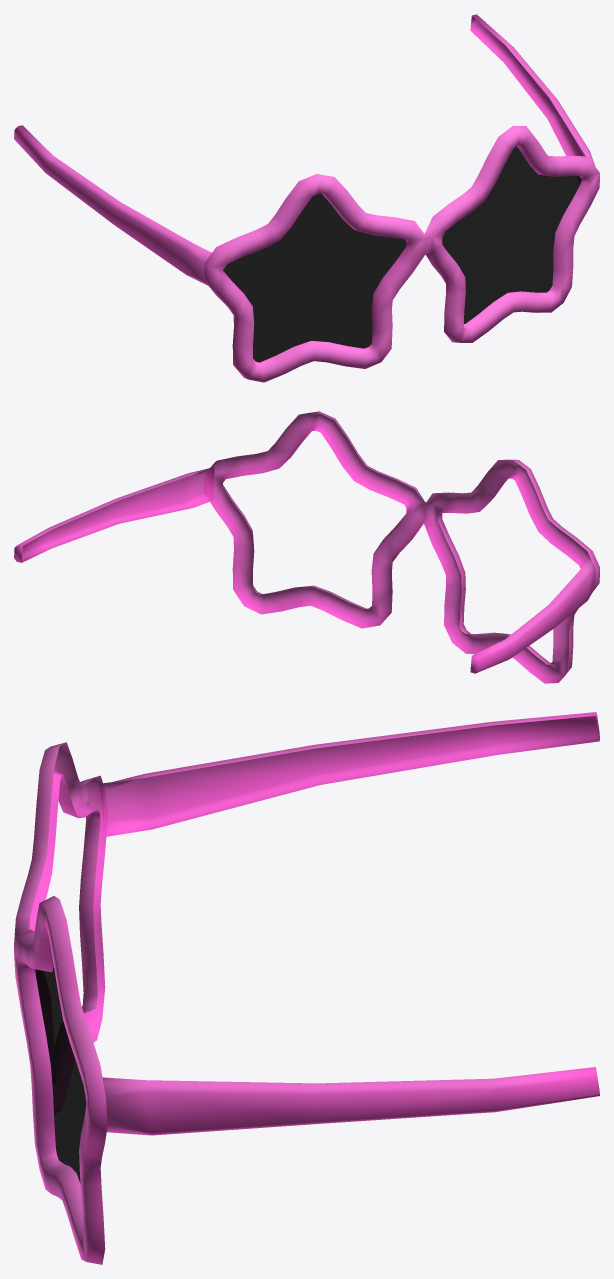
The picture shows the model from 3 angles, top to bottom: view 1: azimuth 30°, elevation 25°; view 2: azimuth 150°, elevation 25°; view 3: azimuth 270°, elevation 25°; orthographic projection. The views are drawn at different scales.
Parts seen in each view (by area): view 1: Party_Glasses_Star; view 2: Party_Glasses_Star; view 3: Party_Glasses_Star.
Boxes of the visible parts, x1=… form: Party_Glasses_Star: x1=14, y1=14, x2=599, y2=382; Party_Glasses_Star: x1=14, y1=411, x2=599, y2=683; Party_Glasses_Star: x1=14, y1=712, x2=599, y2=1264.
Bounding box in the file's own units: 17.45 × 7.32 × 11.83.
2 materials, 2 textured.
